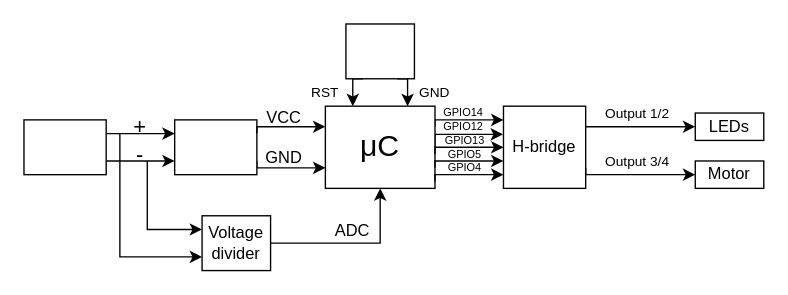
The diagram is 788 pixels wide and 295 high, and some of its shapes have lost their labels. The shapes that lost their labels are listed below. From the top down, each one's centre as x and y in pixels, then its label:
At point 379,51: "Push button".
At point 64,147: "AA/AAA Batteries".
At point 215,147: "Step Up".
